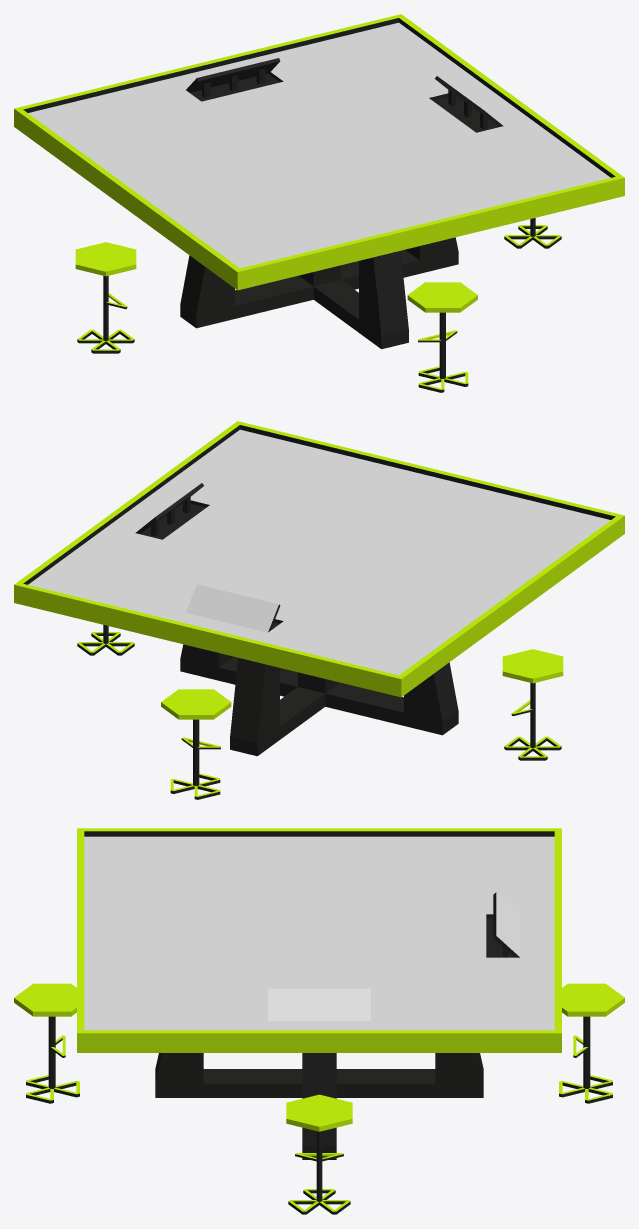
File: Playing_Table.fbx
3 renders of one model, top to bottom at view 1: azimuth 30°, elevation 25°; view 2: azimuth 150°, elevation 25°; view 3: azimuth 270°, elevation 25°, orthographic. The views are drawn at different scales.
Visible parts, largest first — view 1: Playing_Table; view 2: Playing_Table; view 3: Playing_Table.
Part boxes in pixels (x1,y1,x2,y2): Playing_Table: (14, 14, 624, 392); Playing_Table: (14, 421, 624, 799); Playing_Table: (14, 828, 624, 1214).
Size of the model in its own units: 7.55 by 7.55 by 2.41.
